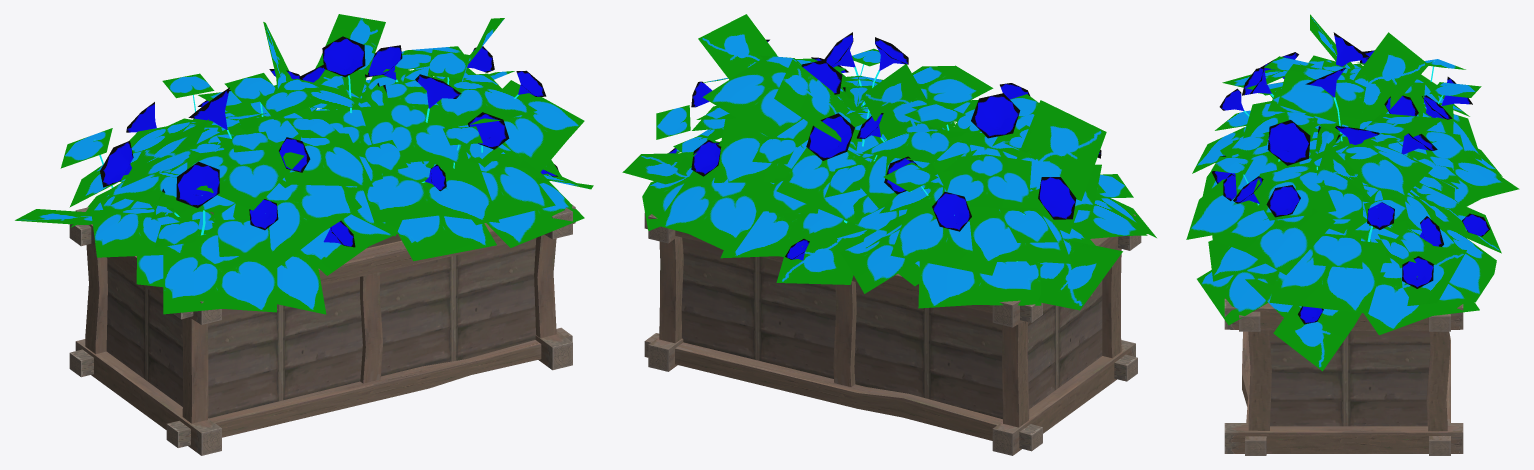
Rendered from Homeworld_Exterior_Dq_Flower_Cluster_02_Lod0.fbx.
The picture shows the model from 3 angles, left to right: view 1: azimuth 30°, elevation 25°; view 2: azimuth 150°, elevation 25°; view 3: azimuth 270°, elevation 25°; orthographic projection. The views are drawn at different scales.
Parts seen in each view (by area): view 1: Area_Dq_Prop_Common_CityFlower_01_Lod0, Area_Dq_Prop_Common_CityCluster_01_Lod0; view 2: Area_Dq_Prop_Common_CityFlower_01_Lod0, Area_Dq_Prop_Common_CityCluster_01_Lod0; view 3: Area_Dq_Prop_Common_CityFlower_01_Lod0, Area_Dq_Prop_Common_CityCluster_01_Lod0.
Boxes of the visible parts, box(x1,y1,x2,y2) form: Area_Dq_Prop_Common_CityFlower_01_Lod0: box(15, 14, 593, 314); Area_Dq_Prop_Common_CityCluster_01_Lod0: box(69, 204, 575, 455); Area_Dq_Prop_Common_CityFlower_01_Lod0: box(622, 14, 1156, 310); Area_Dq_Prop_Common_CityCluster_01_Lod0: box(644, 213, 1141, 455); Area_Dq_Prop_Common_CityFlower_01_Lod0: box(1186, 14, 1519, 371); Area_Dq_Prop_Common_CityCluster_01_Lod0: box(1224, 298, 1463, 455).
Size of the model in its own units: 1.65 by 1.02 by 0.9709.
